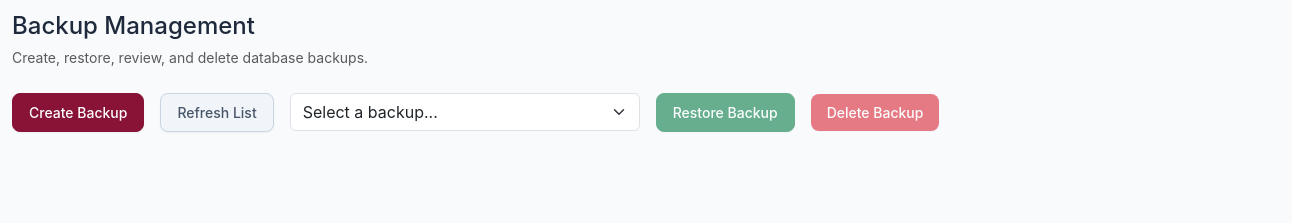
Test: BackupManagementTab › should show create backup error
Click the button "Create Backup" at (78, 112), box [12, 93, 144, 132]
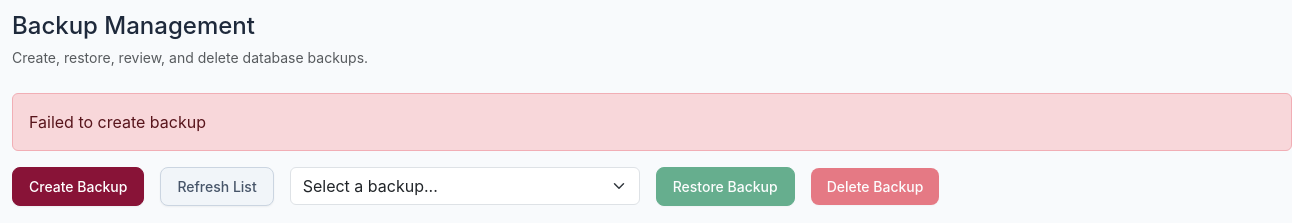
Result: the text "Failed to create backup" is shown at [12, 93, 1291, 151]
